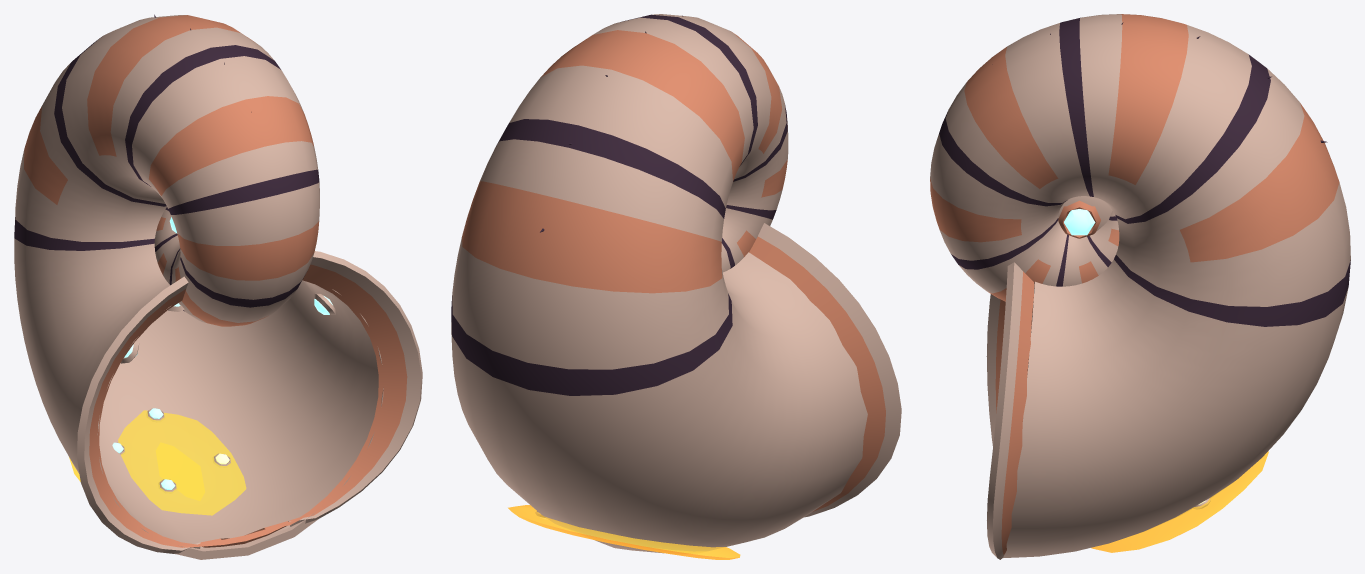
Rendered from deco_shell_hut.fbx.
3 views of the same model, side by side, from view 1: azimuth 30°, elevation 25°; view 2: azimuth 150°, elevation 25°; view 3: azimuth 270°, elevation 25° (orthographic). The views are drawn at different scales.
Visible parts, largest first — view 1: ShellHut_Shell, ShellHut_Lip, ShellHut_Floor, ShellHut_Lights; view 2: ShellHut_Shell, ShellHut_Lip, ShellHut_Floor; view 3: ShellHut_Shell, ShellHut_Lip, ShellHut_Floor.
Boxes of the visible parts, x1,y1,x2,y2 form: ShellHut_Shell: (14, 14, 383, 559); ShellHut_Lip: (77, 251, 422, 553); ShellHut_Floor: (69, 408, 246, 515); ShellHut_Lights: (121, 293, 335, 363); ShellHut_Shell: (451, 14, 867, 553); ShellHut_Lip: (749, 223, 901, 517); ShellHut_Floor: (508, 505, 740, 559); ShellHut_Shell: (930, 14, 1350, 557); ShellHut_Lip: (986, 262, 1034, 559); ShellHut_Floor: (1091, 451, 1268, 552).
Size of the model in its own units: 258 by 347 by 255.
